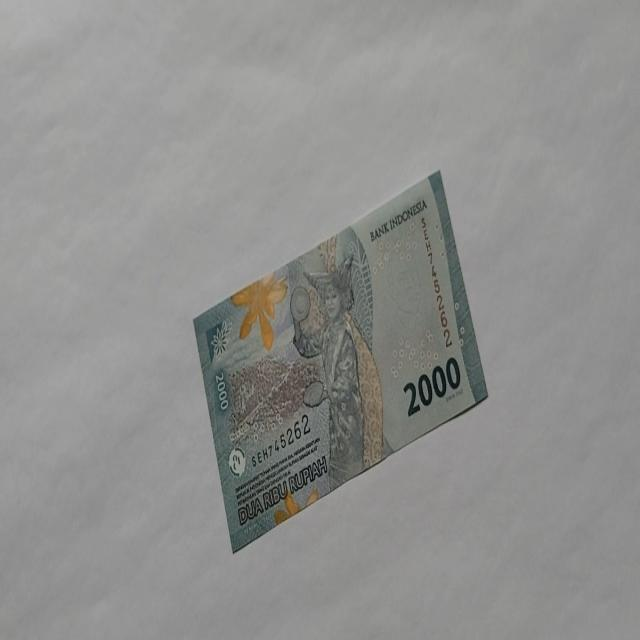dua ribu rupiah: (192, 168, 488, 553), (290, 252, 384, 492)
